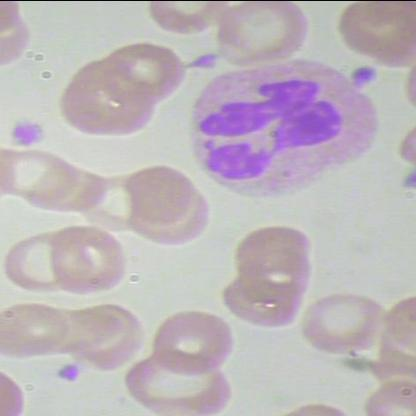Platelets: (8, 119, 46, 148), (349, 60, 380, 90), (186, 46, 220, 72), (54, 358, 82, 382), (400, 166, 415, 193)
RBC: (122, 344, 236, 416), (50, 220, 138, 296), (302, 290, 388, 356), (152, 308, 238, 374), (102, 37, 188, 103), (222, 1, 309, 64), (1, 229, 80, 297), (232, 218, 312, 285), (122, 165, 197, 234), (337, 1, 415, 62)
WBC: (189, 56, 385, 214)
